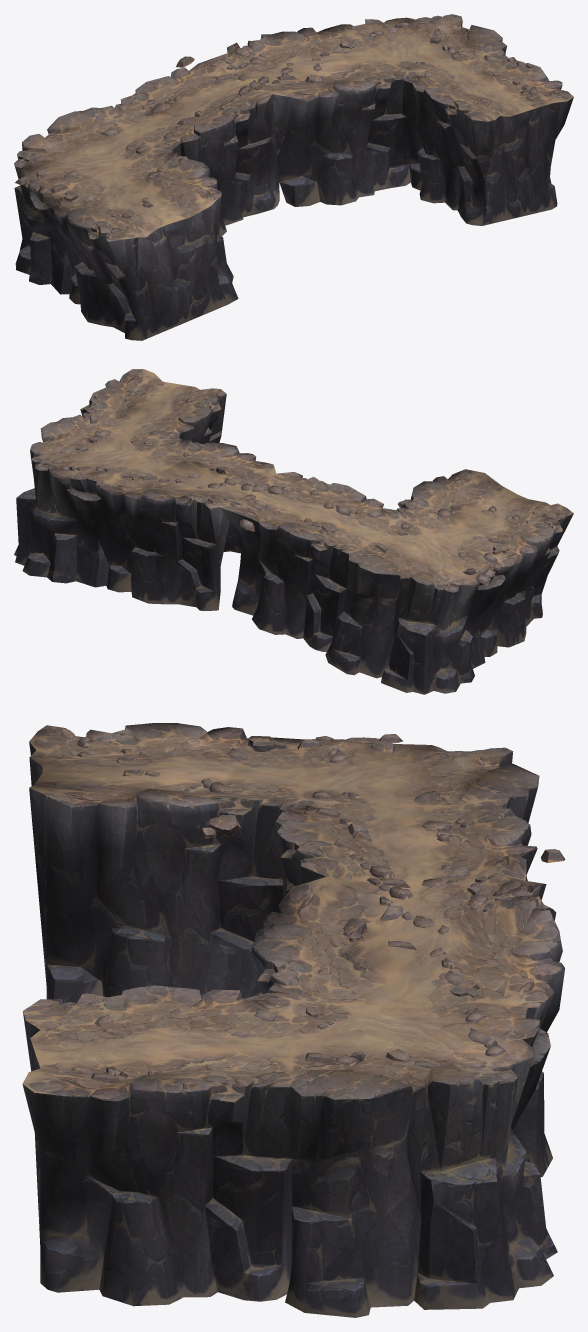
The picture shows the model from 3 angles, top to bottom: view 1: azimuth 30°, elevation 25°; view 2: azimuth 150°, elevation 25°; view 3: azimuth 270°, elevation 25°; orthographic projection. The views are drawn at different scales.
Visible parts, largest first — view 1: 58025_03; view 2: 58025_03; view 3: 58025_03.
Boxes of the visible parts, x1,y1,x2,y2 form: 58025_03: (14,14,573,340); 58025_03: (14,369,573,694); 58025_03: (22,723,565,1317).
Size of the model in its own units: 6090 by 1836 by 3061.
